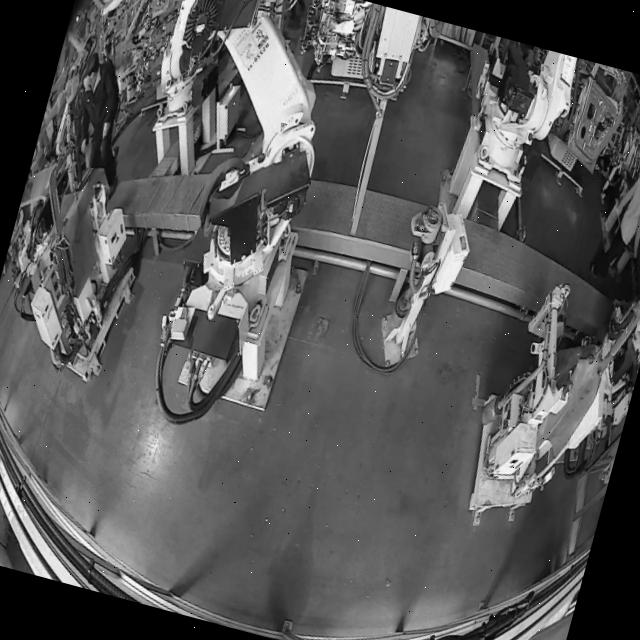Person: (52, 48, 149, 202), (599, 160, 640, 278)
